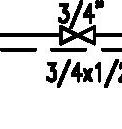valve: (58, 1, 96, 46)
